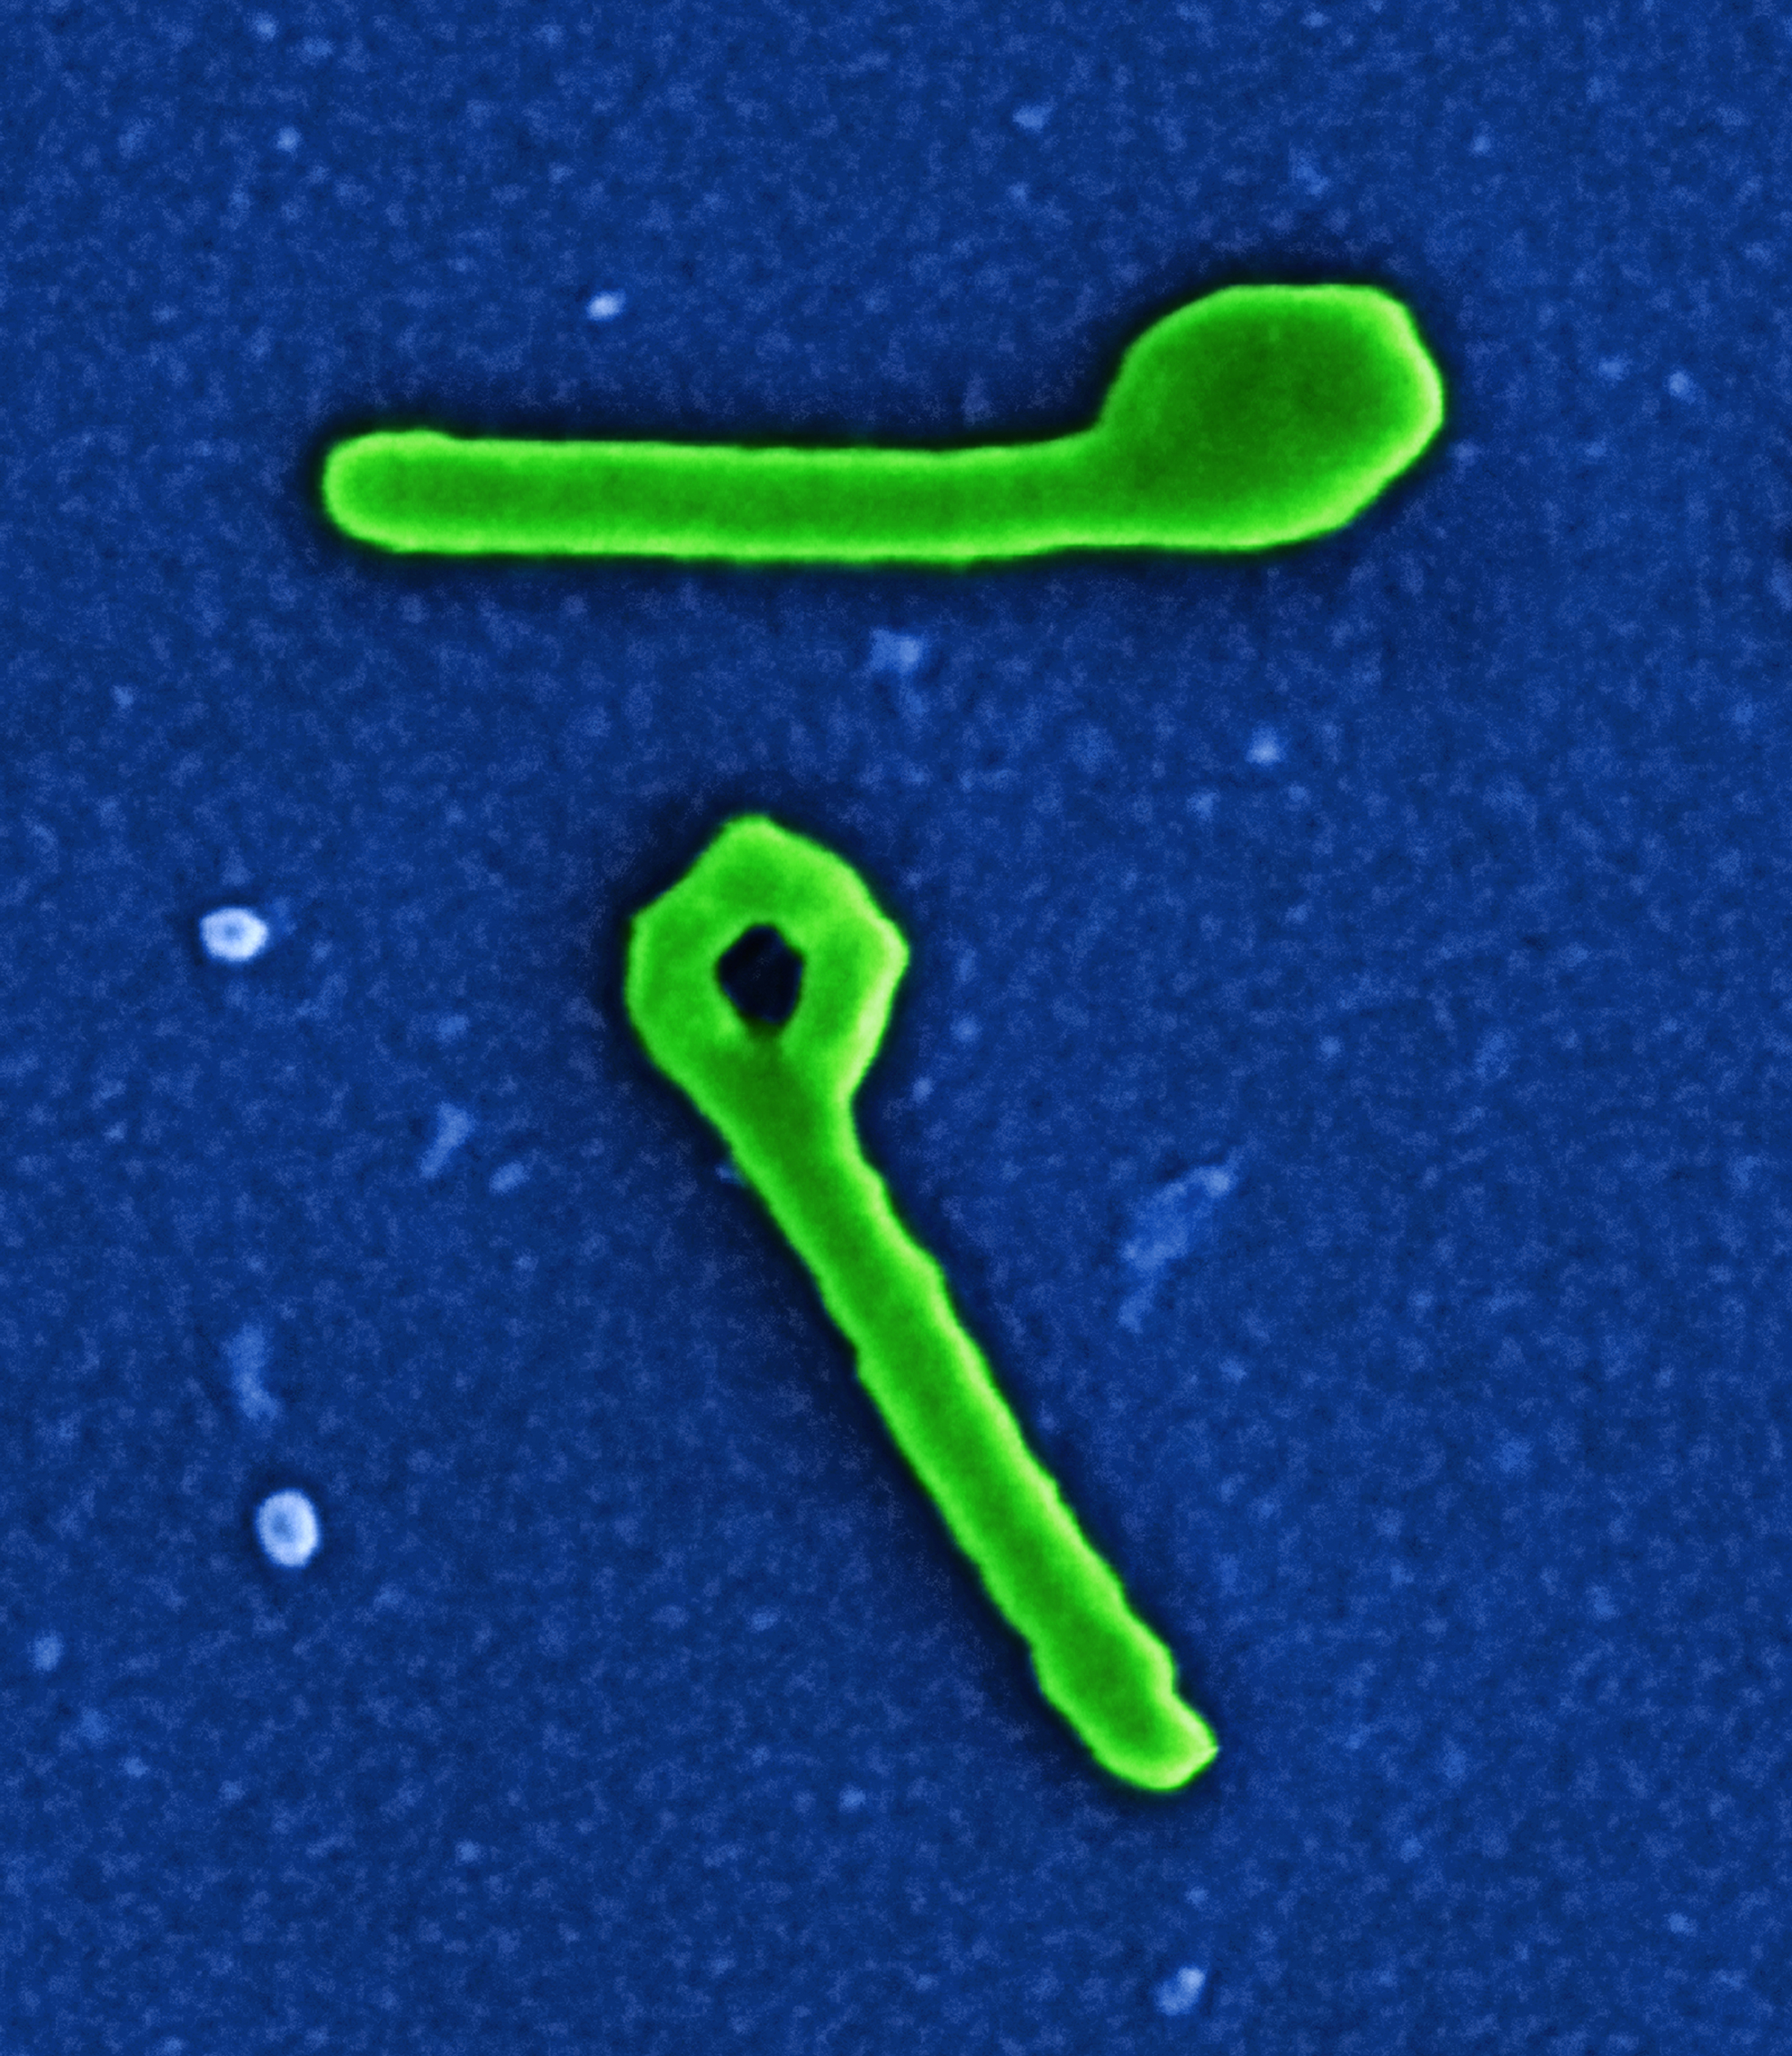EBOLA: (575, 797, 1395, 1827), (271, 233, 1561, 708)
